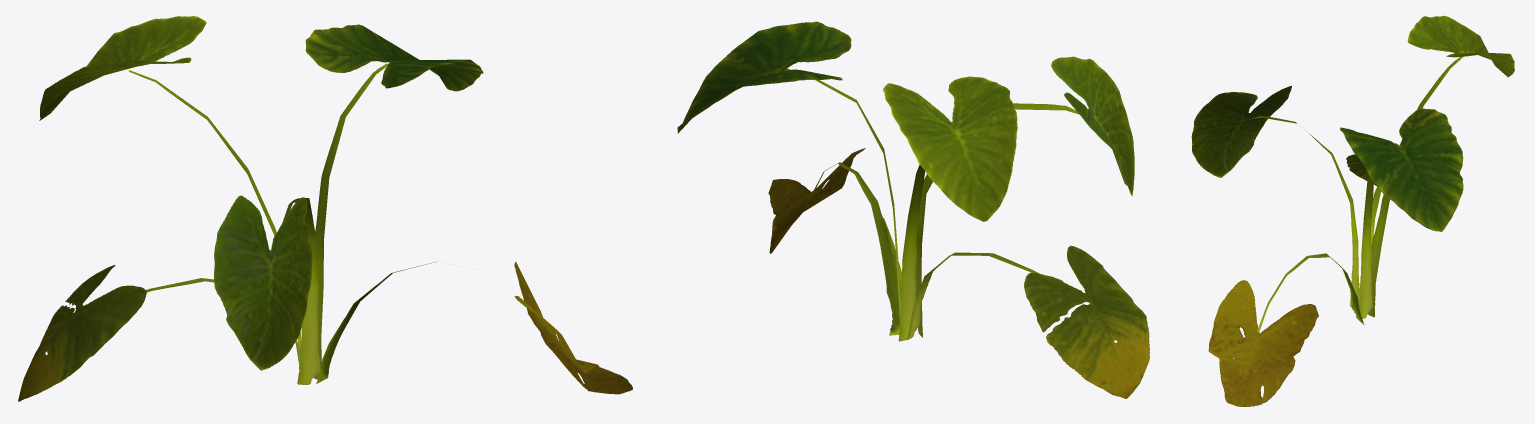
File: Q_Plant_Taro_2.fbx
The picture shows the model from 3 angles, left to right: view 1: azimuth 30°, elevation 25°; view 2: azimuth 150°, elevation 25°; view 3: azimuth 270°, elevation 25°; orthographic projection. The views are drawn at different scales.
Visible parts, largest first — view 1: _266d_Var5_LOD3; view 2: _266d_Var5_LOD3; view 3: _266d_Var5_LOD3.
Boxes of the visible parts, <box> form: _266d_Var5_LOD3: <box>18,16,632,401</box>; _266d_Var5_LOD3: <box>677,21,1149,398</box>; _266d_Var5_LOD3: <box>1191,15,1514,406</box>.
Size of the model in its own units: 64.93 by 42.33 by 49.22.
Materials: 1 (1 with a texture image).
